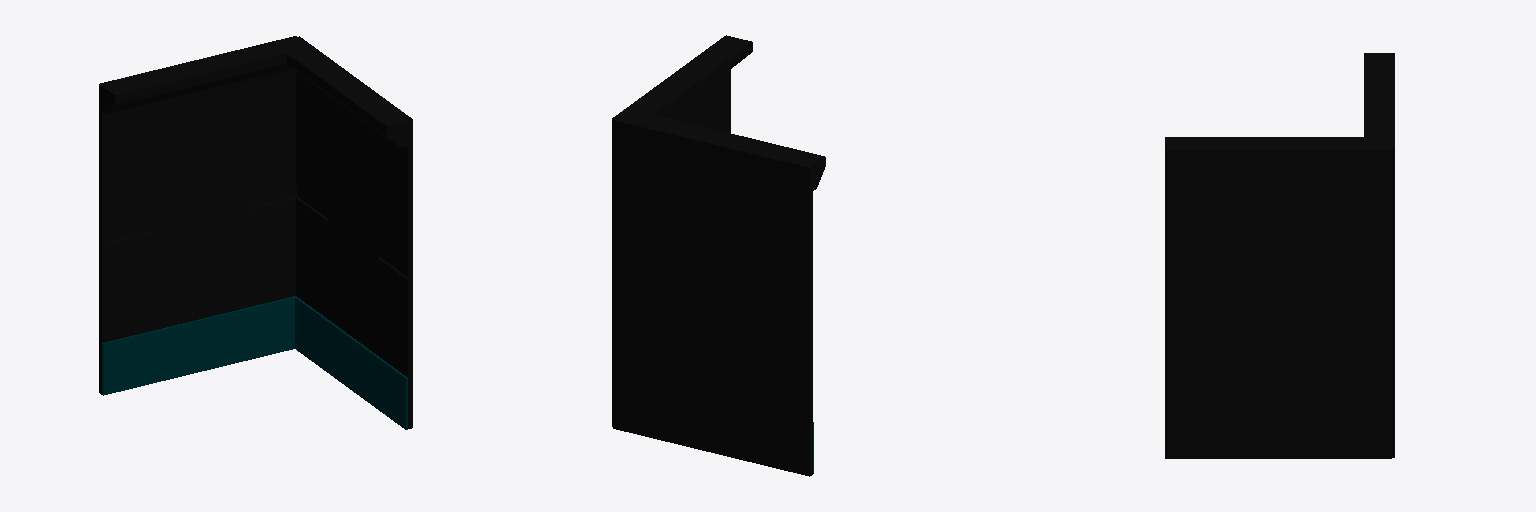
File: SciFiWall6.obj
The picture shows the model from 3 angles: view 1: azimuth 30°, elevation 25°; view 2: azimuth 150°, elevation 25°; view 3: azimuth 270°, elevation 25°; orthographic projection.
Parts seen in each view (by area): view 1: Wall.001, Wall, Wall_Panel, Wall_Panel.001, Triangle_Connecter, Triangle_Connecter.001; view 2: Wall.001, Triangle_Connecter.001, Wall, Triangle_Connecter; view 3: Wall, Triangle_Connecter, Triangle_Connecter.001, Wall.001.
Boxes of the visible parts, x1=… form: Wall.001: x1=99, y1=36, x2=297, y2=394; Wall: x1=295, y1=36, x2=412, y2=428; Wall_Panel: x1=102, y1=296, x2=296, y2=395; Wall_Panel.001: x1=295, y1=297, x2=407, y2=429; Triangle_Connecter: x1=100, y1=38, x2=309, y2=113; Triangle_Connecter.001: x1=283, y1=38, x2=410, y2=147; Wall.001: x1=613, y1=119, x2=812, y2=476; Triangle_Connecter.001: x1=615, y1=36, x2=752, y2=120; Wall: x1=612, y1=35, x2=730, y2=426; Triangle_Connecter: x1=617, y1=109, x2=825, y2=190; Wall: x1=1165, y1=148, x2=1391, y2=458; Triangle_Connecter: x1=1364, y1=53, x2=1391, y2=148; Triangle_Connecter.001: x1=1165, y1=137, x2=1387, y2=148; Wall.001: x1=1389, y1=53, x2=1394, y2=457.
Bounding box in the file's own units: 4.05 × 6 × 4.05.